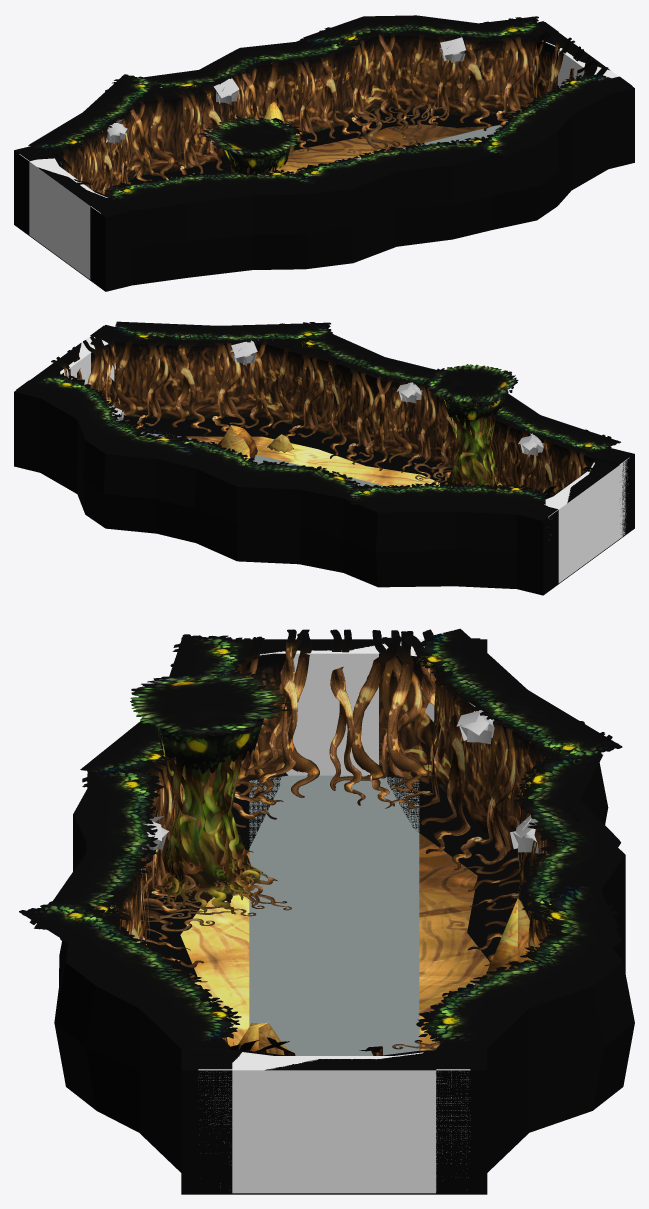
The model's file is Dungeon_021_Road_002_Item2.fbx.
The picture shows the model from 3 angles, top to bottom: view 1: azimuth 30°, elevation 25°; view 2: azimuth 150°, elevation 25°; view 3: azimuth 270°, elevation 25°; orthographic projection. The views are drawn at different scales.
Visible parts, largest first — view 1: Dan1, Dungeon_021_Tsuta_002, Dungeon_021_Tsuta_001, DoorWay_NavMask (1) (×2), Dungeon_021_Object_010, un_021_Door_002 (×2), Dan2, Dan1_shadow, un_021_Door_002_Object1, Dungeon_021_Tsuta_003, Dungeon_102_OB01_Seed (5), Quad_Nav_SP (+1 smaller); view 2: Dan1, Dungeon_021_Tsuta_002, Dungeon_021_Tsuta_001, DoorWay_NavMask (1) (×2), Dan1_shadow, Dungeon_021_Object_010, Dan2, un_021_Door_002 (×2), Dungeon_021_Object_011, un_021_Door_002_Object1, Dungeon_011_Object_012, Dungeon_102_OB01_Seed (1) (+3 smaller); view 3: Dan1, Dungeon_021_Tsuta_002, Quad_Nav_SP, DoorWay_NavMask (1) (×2), un_021_Door_002_Object1, Dan2, Dungeon_021_Tsuta_001, Dungeon_021_Object_010, un_021_Door_002 (×2), Dungeon_021_Object_011, Dan1_shadow, Dungeon_011_Object_011 (+3 smaller).
Part boxes in pixels (x1,y1,x2,y2): Dan1: (14,21,634,291); Dungeon_021_Tsuta_002: (28,15,616,204); Dungeon_021_Tsuta_001: (61,22,547,199); DoorWay_NavMask (1) (×2): (19,44,618,279); Dungeon_021_Object_010: (199,116,301,175); un_021_Door_002 (×2): (16,22,632,280); Dan2: (270,124,494,173); Dan1_shadow: (128,108,515,183); un_021_Door_002_Object1: (505,30,608,118); Dungeon_021_Tsuta_003: (361,102,447,151); Dungeon_102_OB01_Seed (5): (440,37,465,63); Quad_Nav_SP: (403,123,505,149); Dan1: (14,325,634,595); Dungeon_021_Tsuta_002: (26,321,620,505); Dungeon_021_Tsuta_001: (50,328,594,496); DoorWay_NavMask (1) (×2): (60,336,629,583); Dan1_shadow: (123,416,452,482); Dungeon_021_Object_010: (423,364,518,421); Dan2: (186,436,439,487); un_021_Door_002 (×2): (16,325,632,583); Dungeon_021_Object_011: (445,412,502,487); un_021_Door_002_Object1: (49,329,129,421); Dungeon_011_Object_012: (217,425,257,460); Dungeon_102_OB01_Seed (1): (230,340,257,365); Dan1: (54,639,634,1194); Dungeon_021_Tsuta_002: (19,628,622,1047); Quad_Nav_SP: (249,775,419,1055); DoorWay_NavMask (1) (×2): (198,639,470,1193); un_021_Door_002_Object1: (230,629,446,806); Dan2: (180,833,489,1050); Dungeon_021_Tsuta_001: (100,650,596,1045); Dungeon_021_Object_010: (130,671,291,774); un_021_Door_002 (×2): (188,638,480,1194); Dungeon_021_Object_011: (152,730,277,913); Dan1_shadow: (141,776,530,979); Dungeon_011_Object_011: (485,898,539,978).
Size of what is drawn, in the model's own units: 15 by 3.03 by 9.14.
